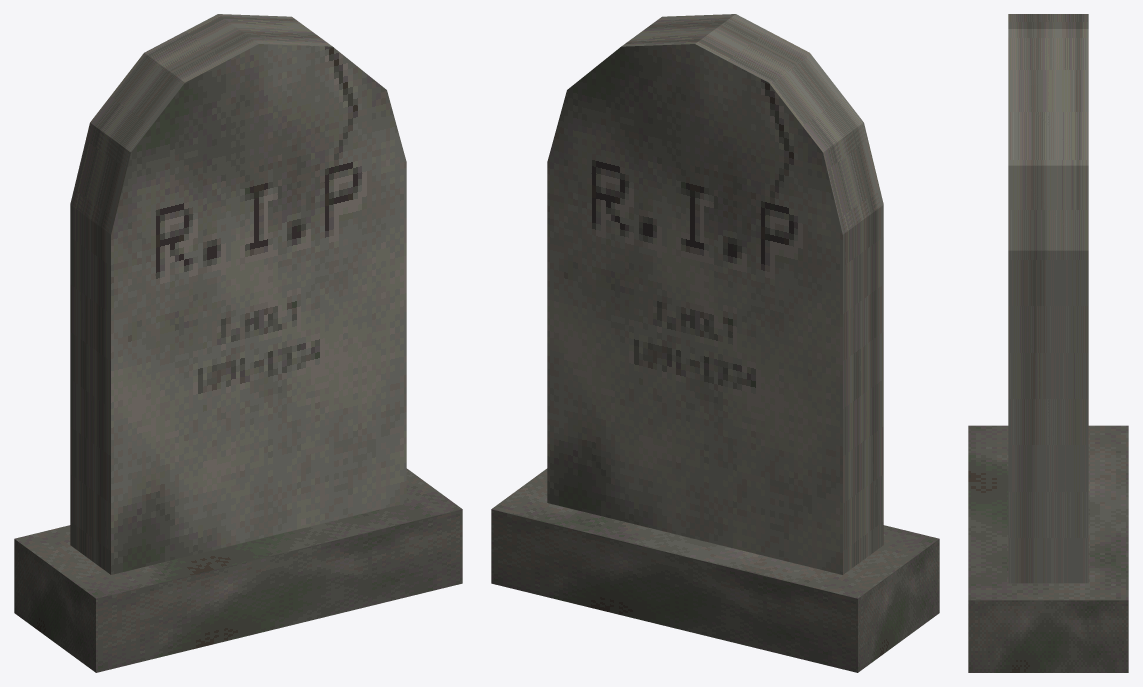
File: gravestone_round.glb
3 renders of one model, left to right at view 1: azimuth 30°, elevation 25°; view 2: azimuth 150°, elevation 25°; view 3: azimuth 270°, elevation 25°, orthographic. The views are drawn at different scales.
Visible parts, largest first — view 1: gravestone_round; view 2: gravestone_round; view 3: gravestone_round.
Part boxes in pixels (box(x1,y1,x2,y2)): gravestone_round: box(14, 14, 462, 672); gravestone_round: box(491, 14, 939, 672); gravestone_round: box(968, 14, 1128, 672).
Bounding box in the file's own units: 0.62 × 0.92 × 0.24.
Materials: 1 (1 with a texture image).
